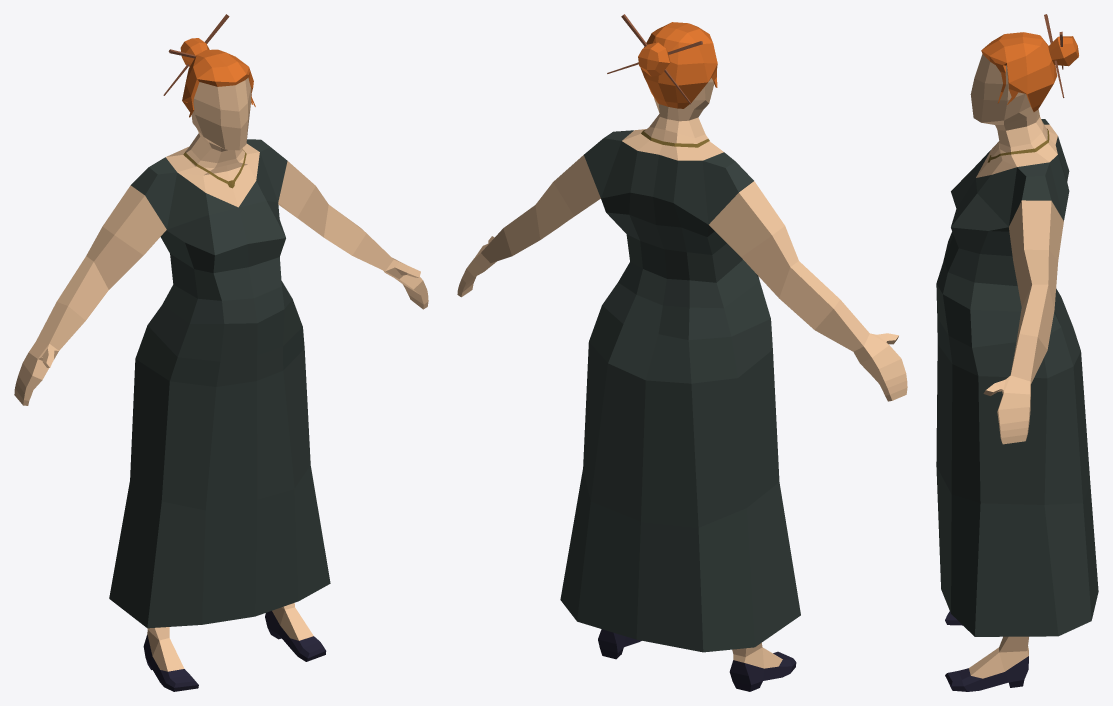
Rendered from female_02_b.fbx.
3 views of the same model, side by side, from view 1: azimuth 30°, elevation 25°; view 2: azimuth 150°, elevation 25°; view 3: azimuth 270°, elevation 25° (orthographic). The views are drawn at different scales.
Visible parts, largest first — view 1: female_02_b; view 2: female_02_b; view 3: female_02_b.
Boxes of the visible parts, x1,y1,x2,y2 form: female_02_b: (14,14,428,691); female_02_b: (457,14,907,691); female_02_b: (936,14,1098,691).
Size of the model in its own units: 124 by 179 by 41.49.
1 material, 1 textured.
